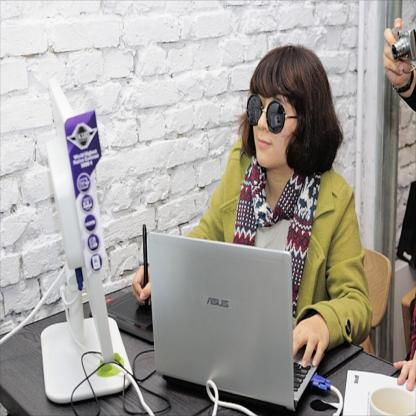board: (148, 233, 317, 413)
